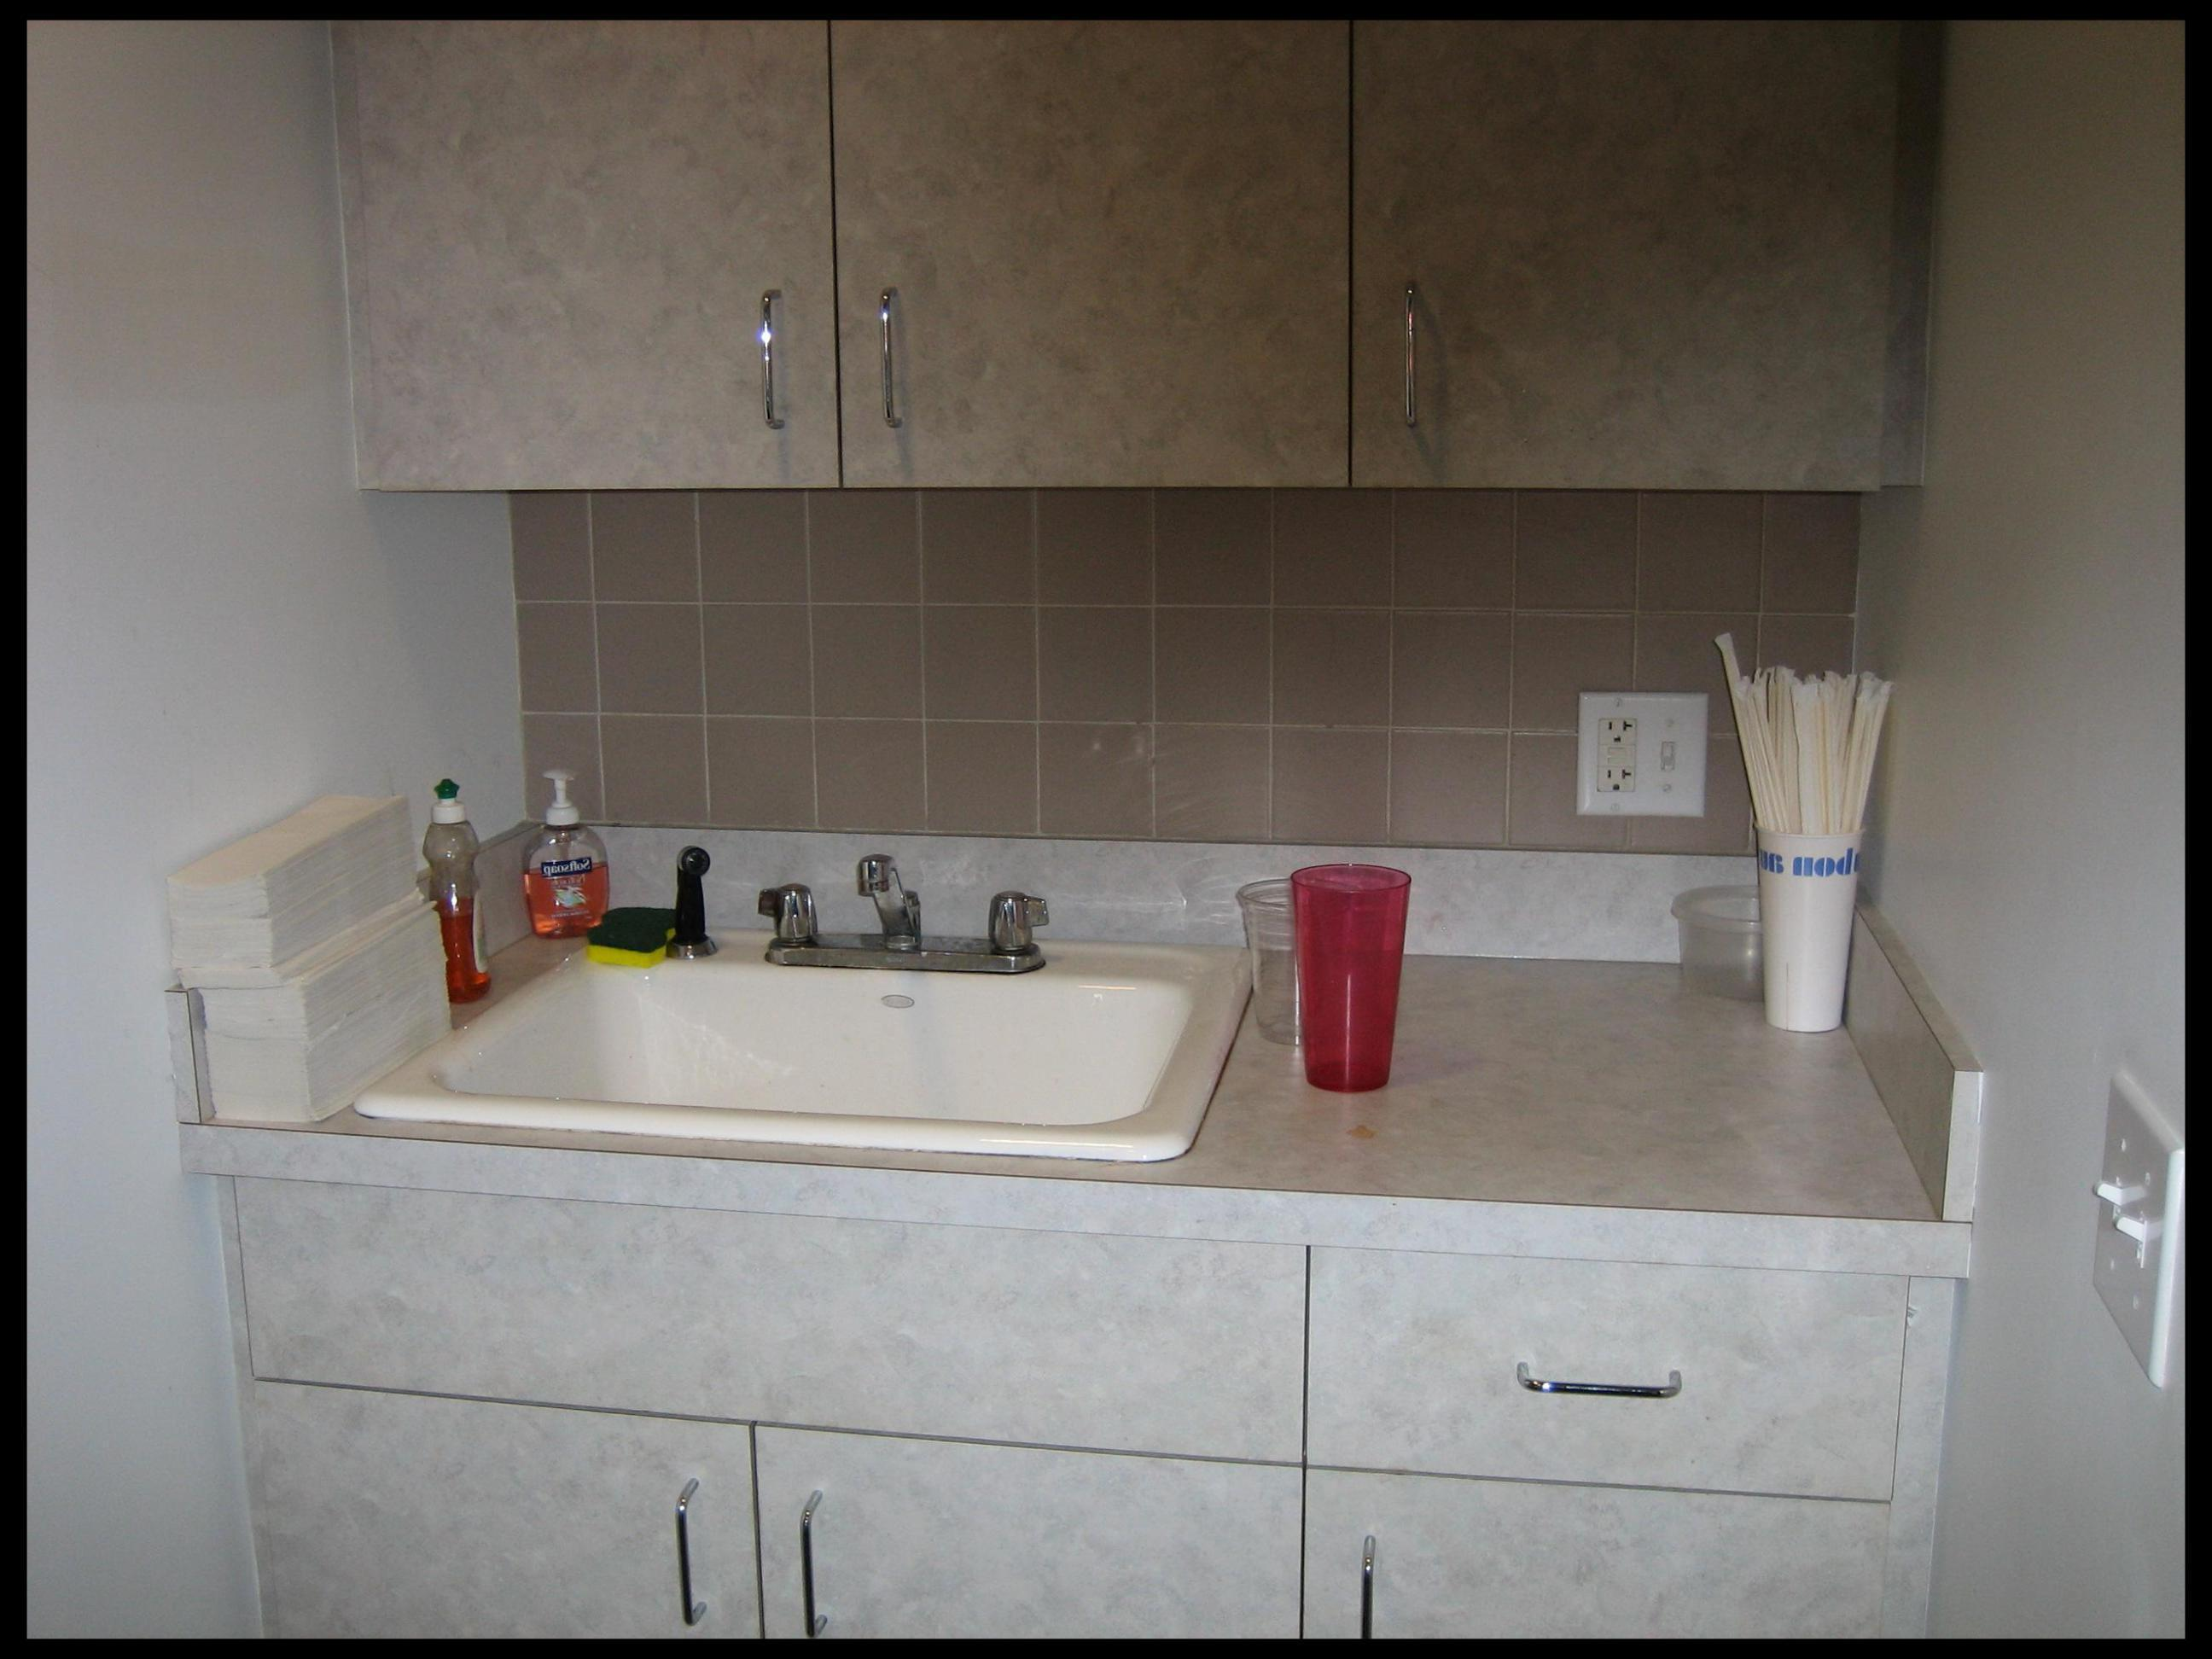Lavaplatos: (334, 870, 1214, 1237)
